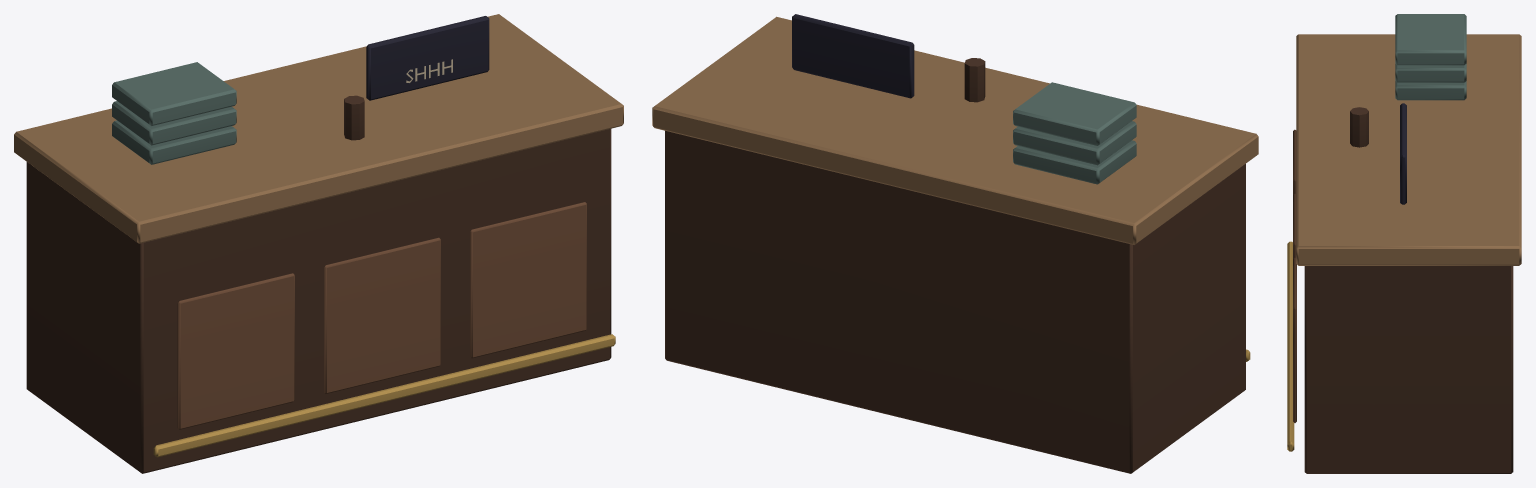
Rendered from counter_loan.glb.
3 renders of one model, left to right at view 1: azimuth 30°, elevation 25°; view 2: azimuth 150°, elevation 25°; view 3: azimuth 270°, elevation 25°, orthographic. The views are drawn at different scales.
Visible parts, largest first — view 1: counter_loan; view 2: counter_loan; view 3: counter_loan.
Boxes of the visible parts, left/top/right/bottom form: counter_loan: left=14, top=14, right=623, bottom=473; counter_loan: left=652, top=14, right=1258, bottom=473; counter_loan: left=1287, top=14, right=1521, bottom=473.
Size of the model in its own units: 1.84 by 1.16 by 0.8525.
